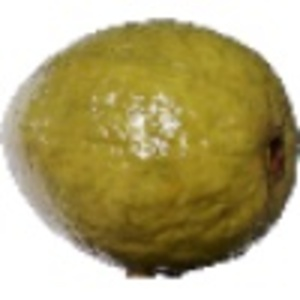goiaba: (5, 16, 296, 268)
